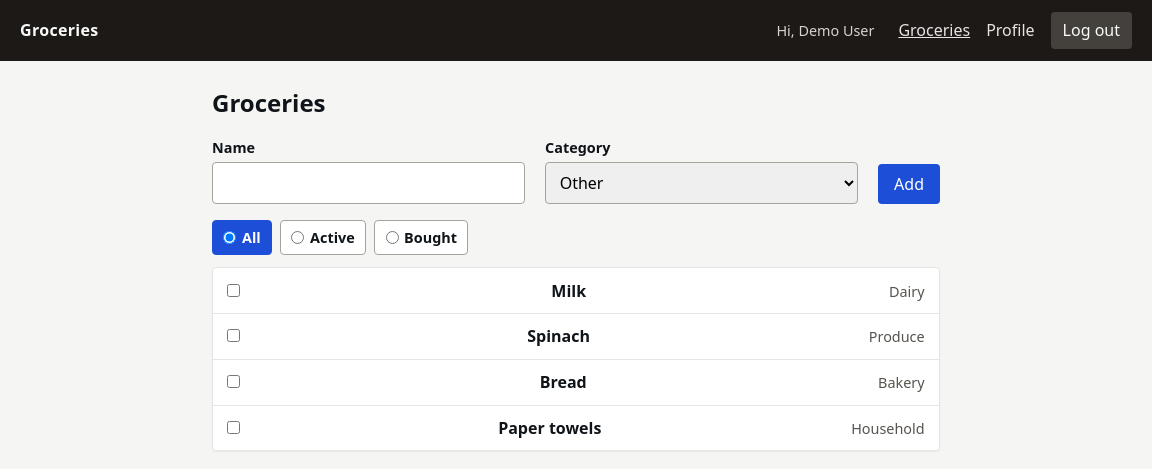
Test: GroceriesPage › Active filter hides bought items
The width and height of the screenshot is (1152, 469).
Expected: the heading "Groceries" is shown, [212,86,326,119]
Click the checkbox named "mark milk as bought" at (234, 290), box [227,284,240,297]
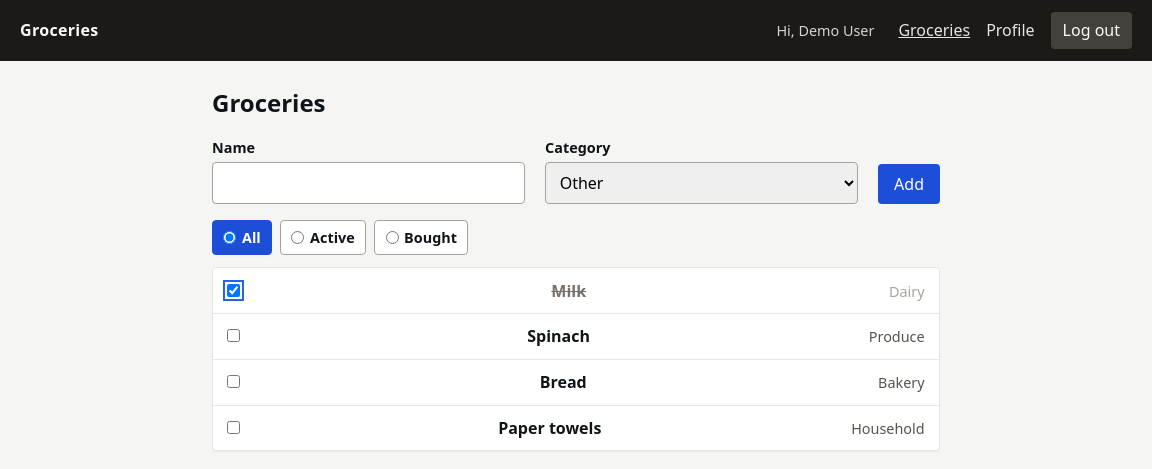
Click the radio button labelled "Active" at (298, 238), box [292,231,304,244]
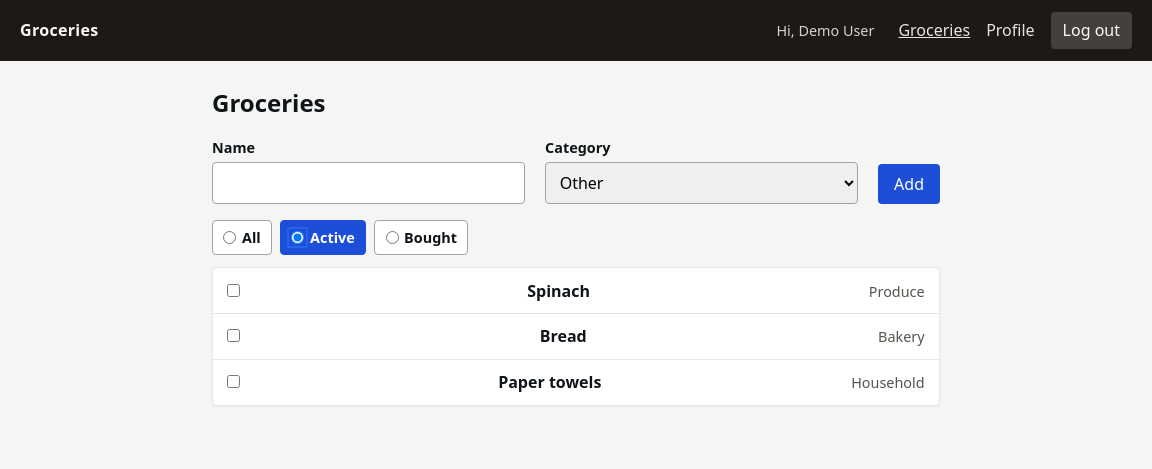
Expected: the text "Spinach" is shown, [527,279,590,303]
Expected: the text "Milk" is gone
